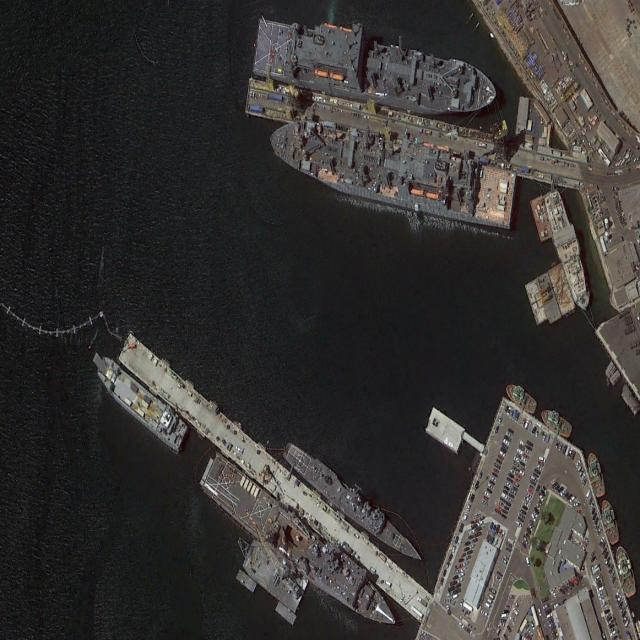Commander: (265, 104, 518, 235), (252, 1, 501, 128)
Frigate: (279, 436, 428, 570)
Landing: (198, 448, 403, 640)
Other Warship: (83, 346, 192, 455)
